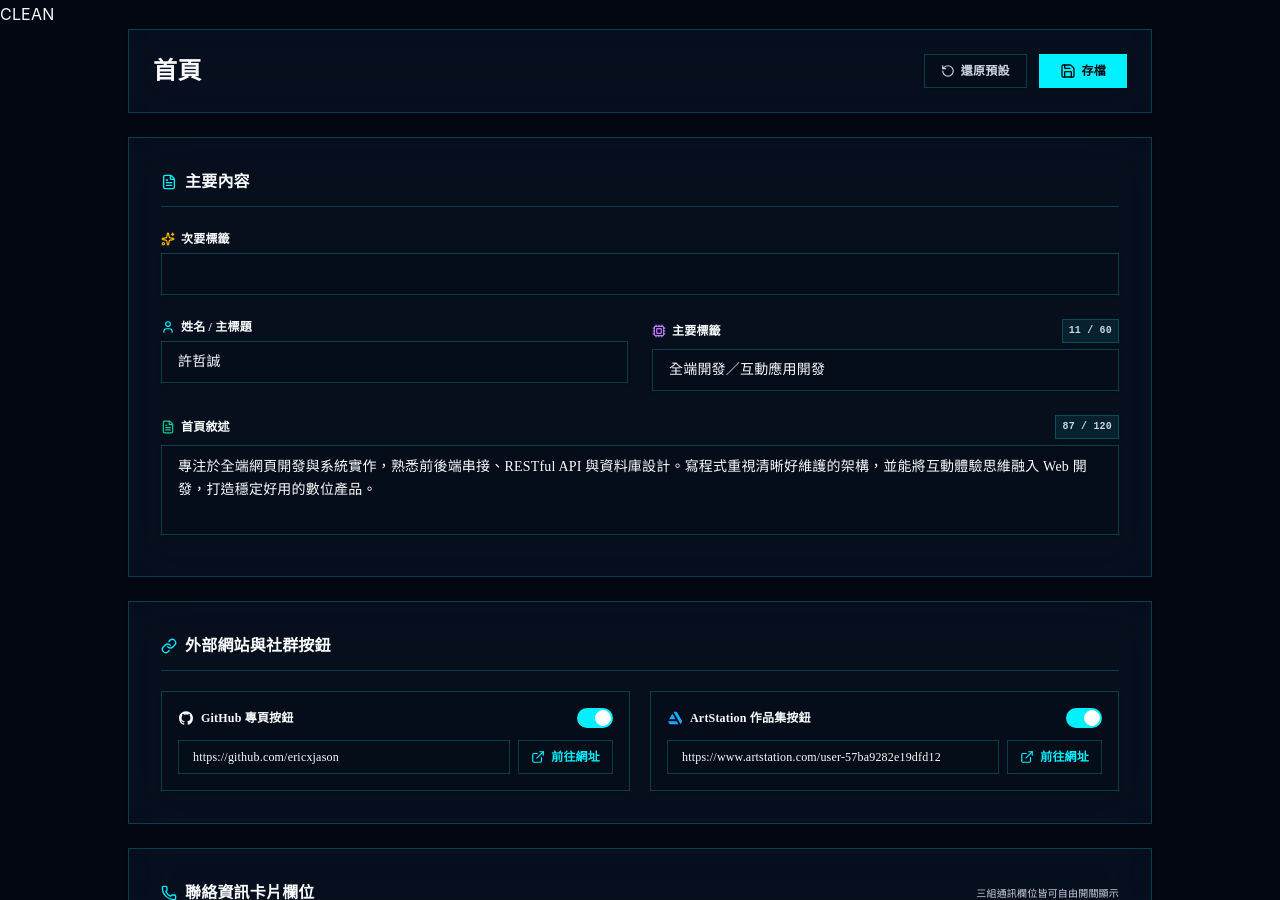
CMS 編輯器按鈕流程與 Firebase 存檔串接單元測試 › 點擊「還原預設」按鈕跳出對話框，確認後重設模組內容並給出通知
This screenshot has width=1280, height=900.
Click the button "還原預設".
click(975, 71)  # box [924,54,1027,88]
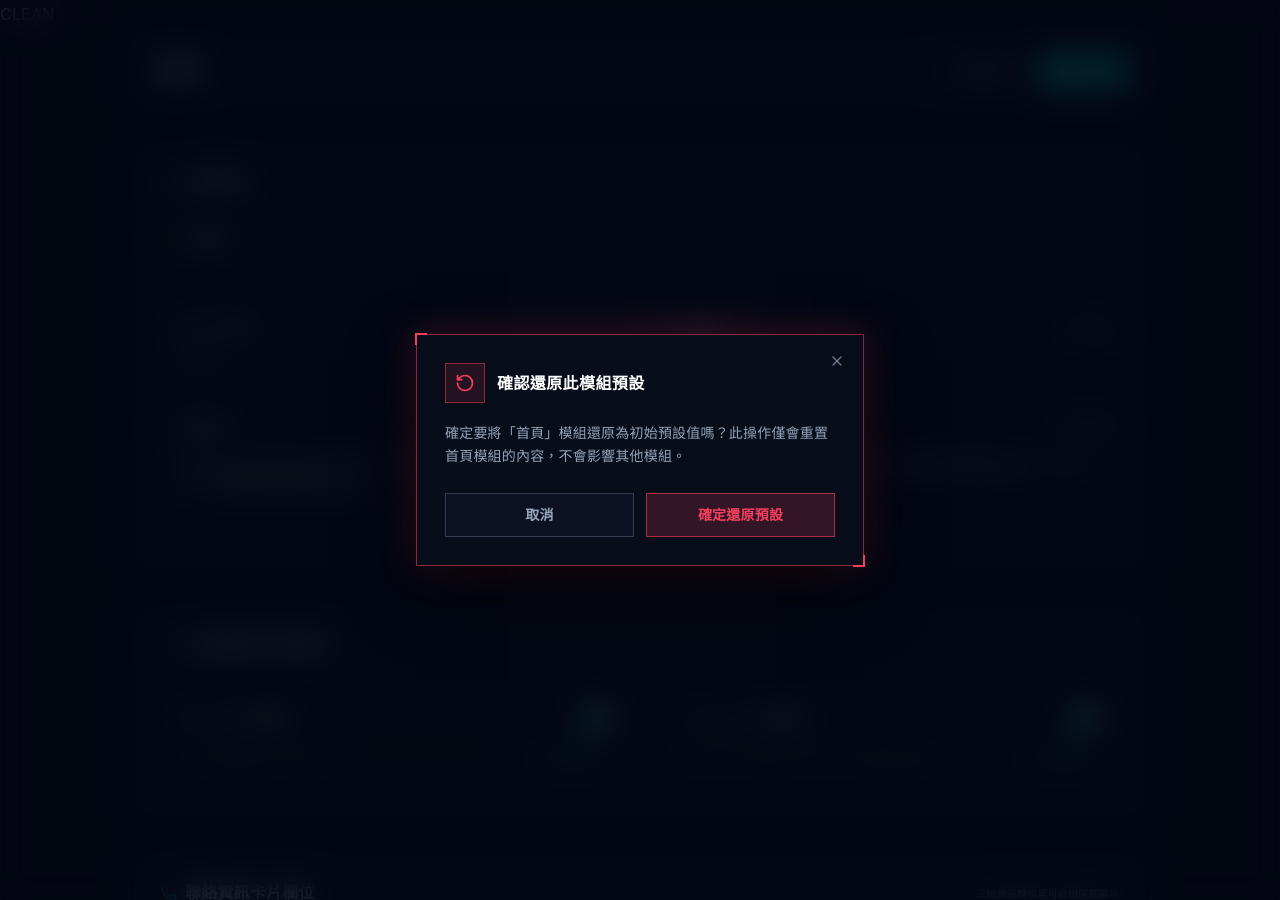
Check: the heading "確認還原此模組預設" is shown, box [497,373,645,393]
Note: 點擊確定還原預設
Click the button "確定還原預設".
click(740, 515)  # box [646,493,835,537]
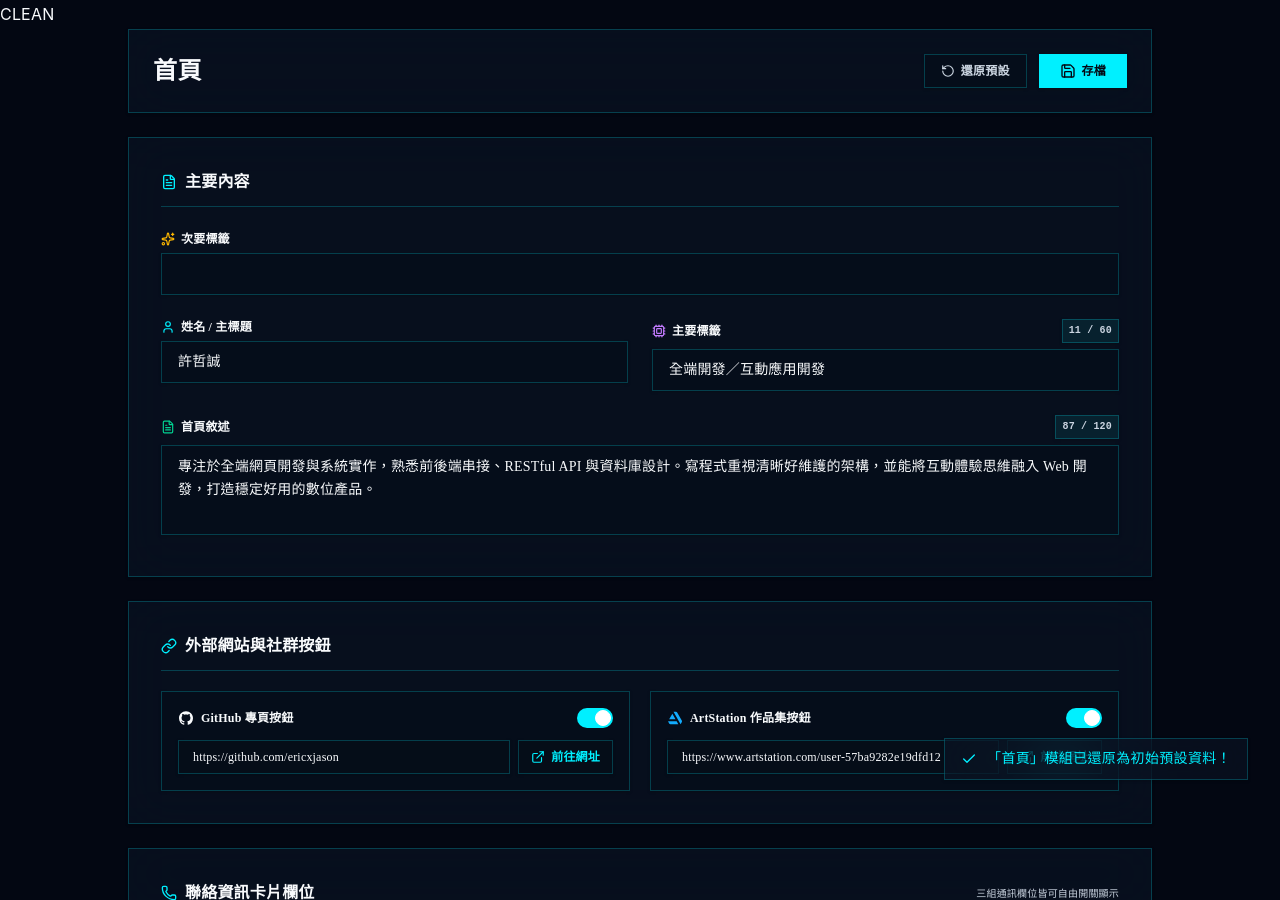
Check: the text "「首頁」模組已還原為初始預設資料！" is shown, box [987,749,1231,769]
